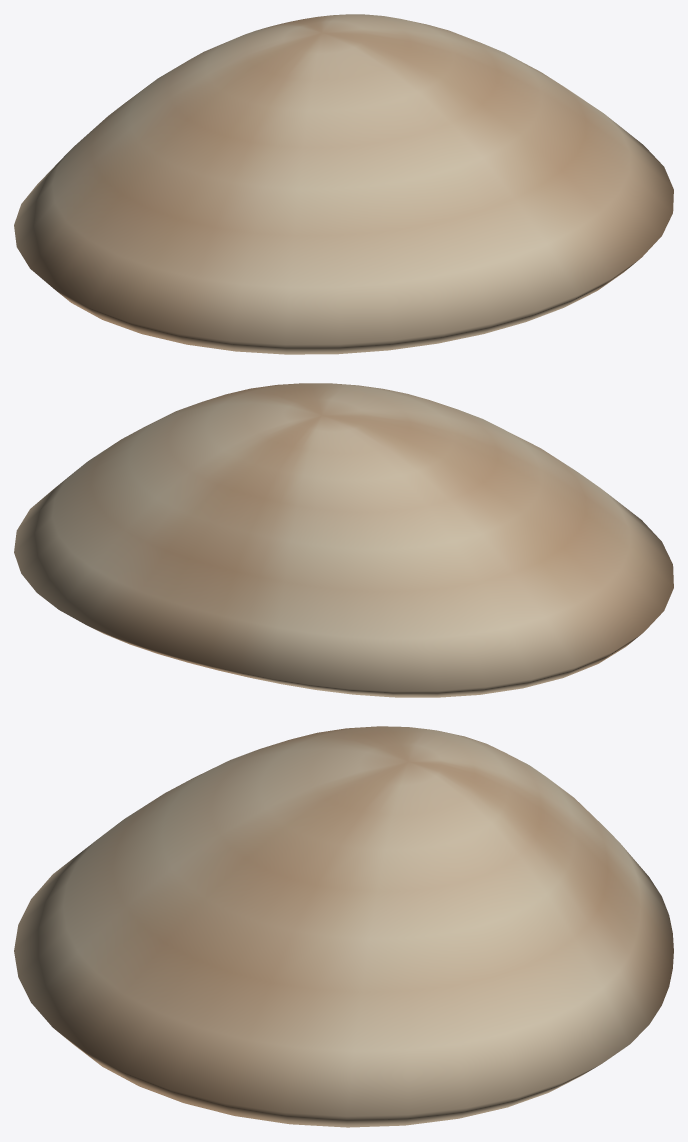
The model's file is Coast_Clam.fbx.
3 renders of one model, top to bottom at view 1: azimuth 30°, elevation 25°; view 2: azimuth 150°, elevation 25°; view 3: azimuth 270°, elevation 25°, orthographic. The views are drawn at different scales.
Parts seen in each view (by area): view 1: Coast_Clam; view 2: Coast_Clam; view 3: Coast_Clam.
Part boxes in pixels (x1,y1,x2,y2): Coast_Clam: (14,14,673,354); Coast_Clam: (14,383,673,697); Coast_Clam: (14,726,673,1127).
Bounding box in the file's own units: 1.2 × 0.3561 × 1.01.
